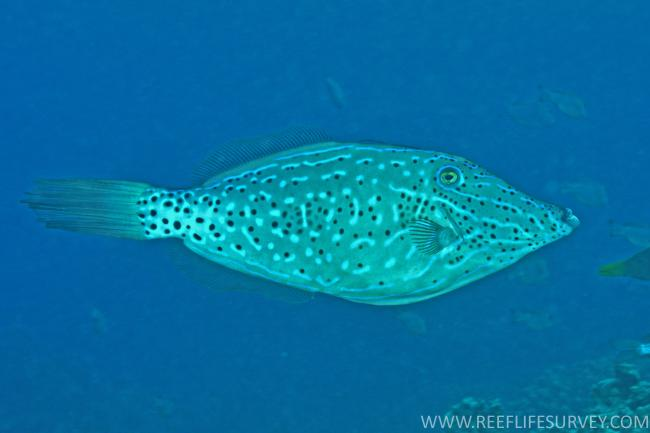fish: (22, 138, 582, 306)
